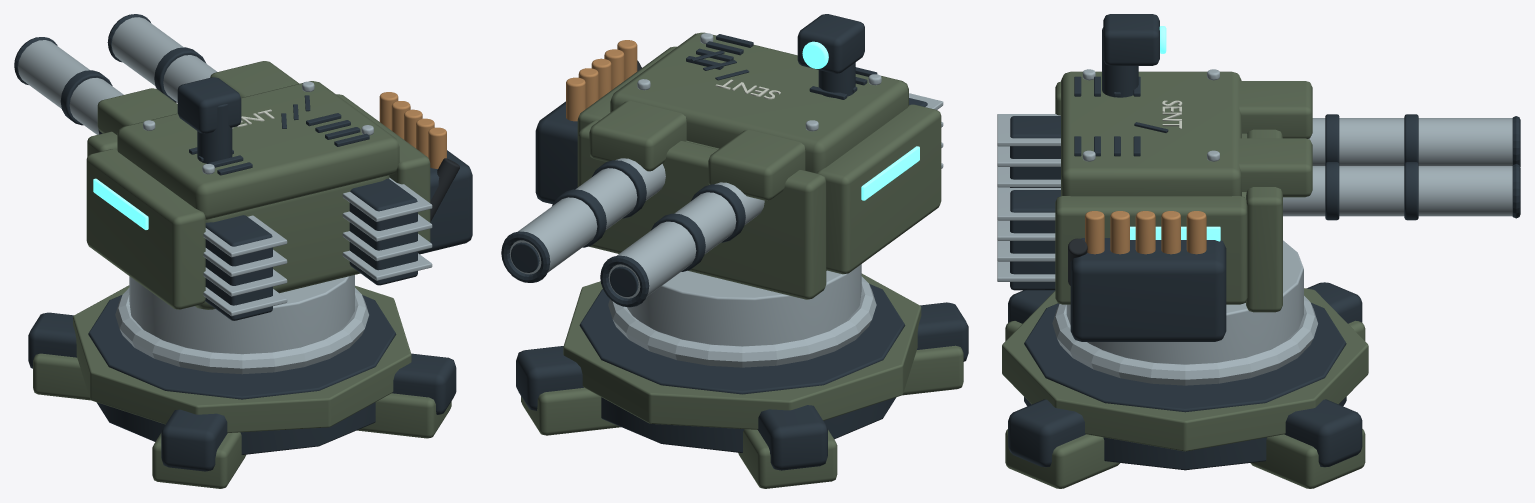
File: 01_marine_sentinel.glb
3 views of the same model, side by side, from view 1: azimuth 30°, elevation 25°; view 2: azimuth 150°, elevation 25°; view 3: azimuth 270°, elevation 25° (orthographic). The views are drawn at different scales.
Visible parts, largest first — view 1: Armored cradle, Recessed bearing, Armored footing, Cooling vent, Rivet, Bearing, Linked cartridge, Identification strip, Feed cable; view 2: Armored cradle, Recessed bearing, Armored footing, Bearing, Cooling vent, Rivet, Linked cartridge, Identification strip; view 3: Armored cradle, Cooling vent, Rivet, Recessed bearing, Armored footing, Bearing, Linked cartridge, Identification strip.
Boxes of the visible parts, box(x1,y1,x2,y2) form: Armored cradle: box(86, 61, 430, 309); Recessed bearing: box(28, 295, 456, 471); Armored footing: box(33, 285, 451, 488); Cooling vent: box(14, 14, 472, 320); Rivet: box(18, 17, 432, 316); Bearing: box(115, 275, 368, 374); Linked cartridge: box(379, 92, 446, 168); Identification strip: box(93, 178, 148, 229); Feed cable: box(430, 158, 459, 221); Armored cradle: box(577, 32, 941, 299); Recessed bearing: box(516, 283, 968, 470); Armored footing: box(521, 273, 963, 488); Bearing: box(608, 264, 876, 367); Cooling vent: box(501, 14, 927, 307); Rivet: box(509, 33, 943, 298); Linked cartridge: box(566, 40, 637, 121); Identification strip: box(802, 41, 919, 200); Armored cradle: box(1055, 71, 1312, 312); Cooling vent: box(1010, 14, 1520, 341); Rivet: box(997, 69, 1512, 281); Recessed bearing: box(1008, 282, 1362, 470); Armored footing: box(1002, 288, 1368, 488); Bearing: box(1052, 240, 1317, 385); Linked cartridge: box(1085, 211, 1206, 254); Identification strip: box(1130, 26, 1220, 241).
Size of the model in its own units: 1.42 by 1.42 by 1.85.
